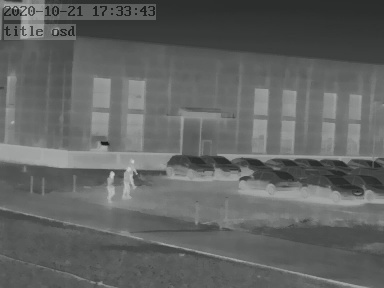person: (124, 158, 138, 202), (106, 171, 118, 201)
vehicle: (301, 171, 362, 199), (239, 169, 302, 191), (165, 153, 212, 179), (204, 153, 242, 177), (349, 173, 382, 200), (233, 155, 270, 171), (261, 155, 296, 169), (347, 156, 380, 170), (295, 155, 324, 169), (318, 156, 348, 169)
